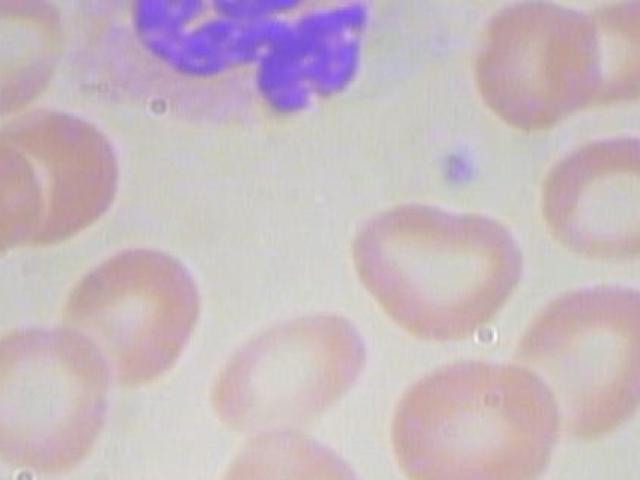RBC: (340, 181, 534, 356), (200, 290, 378, 450), (50, 235, 216, 396), (491, 277, 640, 453), (387, 354, 568, 480), (468, 0, 609, 132), (529, 117, 640, 280), (0, 322, 116, 473), (199, 415, 377, 480), (0, 0, 79, 122), (562, 0, 640, 119), (0, 123, 50, 275)
WBC: (59, 0, 448, 146)
